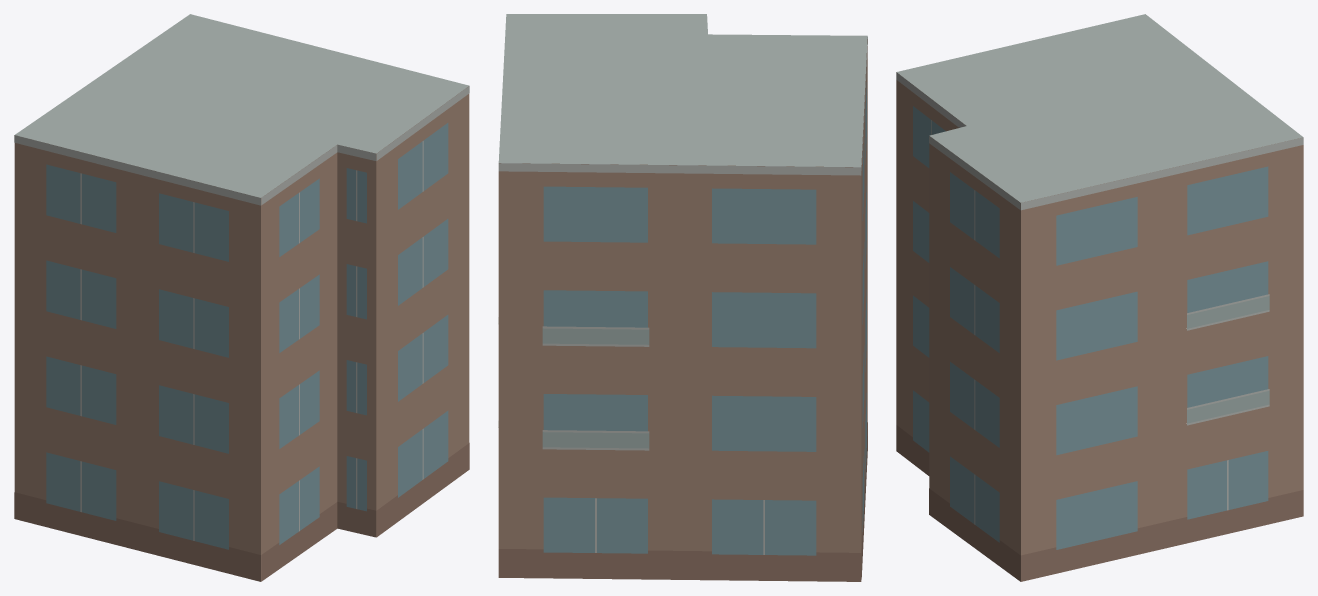
The model's file is survey-upis-32722786.glb.
3 renders of one model, left to right at view 1: azimuth 30°, elevation 25°; view 2: azimuth 150°, elevation 25°; view 3: azimuth 270°, elevation 25°, orthographic. The views are drawn at different scales.
Visible parts, largest first — view 1: survey-upis-32722786.tmp; view 2: survey-upis-32722786.tmp; view 3: survey-upis-32722786.tmp.
Boxes of the visible parts, x1,y1,x2,y2 form: survey-upis-32722786.tmp: (14,14,469,581); survey-upis-32722786.tmp: (498,14,867,581); survey-upis-32722786.tmp: (896,14,1303,581).
Size of the model in its own units: 13.04 by 12.2 by 11.89.
